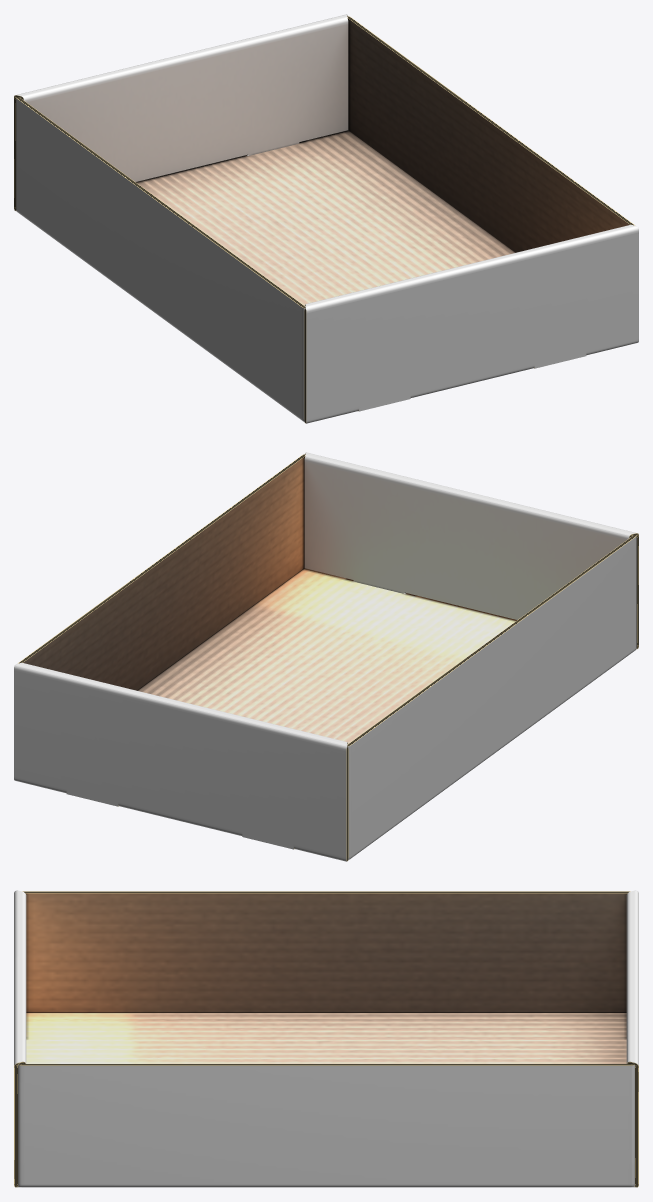
The picture shows the model from 3 angles, top to bottom: view 1: azimuth 30°, elevation 25°; view 2: azimuth 150°, elevation 25°; view 3: azimuth 270°, elevation 25°; orthographic projection. The views are drawn at different scales.
Visible parts, largest first — view 1: _1L0024_ARD-node; view 2: _1L0024_ARD-node; view 3: _1L0024_ARD-node.
Boxes of the visible parts, bbox=[...] form: _1L0024_ARD-node: bbox=[14, 14, 638, 423]; _1L0024_ARD-node: bbox=[14, 452, 638, 861]; _1L0024_ARD-node: bbox=[14, 890, 638, 1187].
Size of the model in its own units: 0.3232 by 0.1086 by 0.4902.
3 materials, 3 textured.
